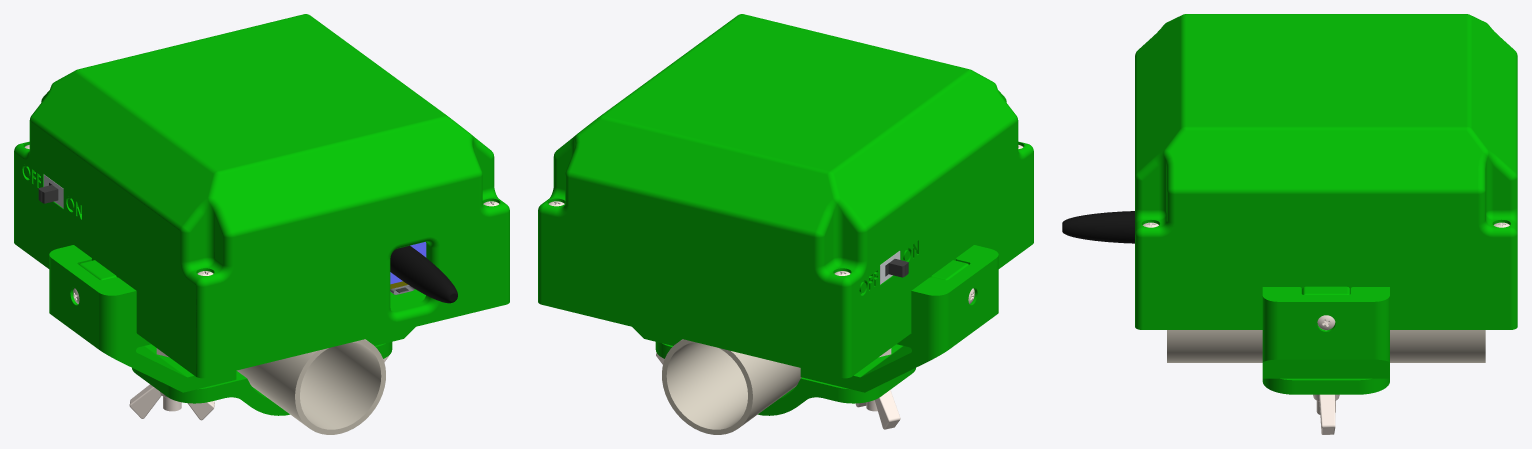
Rendered from Device.glb.
3 views of the same model, side by side, from view 1: azimuth 30°, elevation 25°; view 2: azimuth 150°, elevation 25°; view 3: azimuth 270°, elevation 25° (orthographic).
Visible parts, largest first — view 1: Top Holder_v1-1, Bottom Holder_v1-1, Pipe Holder_Top-1, 25mm Pipe-1, Pipe Holder_Bottom-1, BreadBoard-1, wing nut (class 2)_ks-2, Slide Switch-1, U5-1; view 2: Top Holder_v1-1, Bottom Holder_v1-1, Pipe Holder_Top-1, 25mm Pipe-1, Pipe Holder_Bottom-1, wing nut (class 2)_ks-2, Slide Switch-1; view 3: Top Holder_v1-1, Bottom Holder_v1-1, Pipe Holder_Top-1, 25mm Pipe-1, Pipe Holder_Bottom-1, BreadBoard-1, wing nut (class 2)_ks-1.
Part boxes in pixels (x1,y1,x2,y2): Top Holder_v1-1: (14,14,509,312); Bottom Holder_v1-1: (14,178,509,378); Pipe Holder_Top-1: (49,245,415,392); 25mm Pipe-1: (236,339,385,434); Pipe Holder_Bottom-1: (132,342,392,415); BreadBoard-1: (390,245,457,303); wing nut (class 2)_ks-2: (129,384,214,420); Slide Switch-1: (38,174,63,208); U5-1: (390,242,426,294); Top Holder_v1-1: (538,14,1033,312); Bottom Holder_v1-1: (538,178,1033,378); Pipe Holder_Top-1: (632,245,998,392); 25mm Pipe-1: (662,339,801,434); Pipe Holder_Bottom-1: (655,342,915,415); wing nut (class 2)_ks-2: (855,390,900,429); Slide Switch-1: (880,251,908,284); Top Holder_v1-1: (1135,14,1517,263); Bottom Holder_v1-1: (1135,261,1517,329); Pipe Holder_Top-1: (1262,287,1389,378); 25mm Pipe-1: (1167,330,1485,362); Pipe Holder_Bottom-1: (1262,378,1389,394); BreadBoard-1: (1062,211,1134,243); wing nut (class 2)_ks-1: (1313,394,1339,434).
Size of the model in its own units: 0.1374 by 0.1062 by 0.1428.
